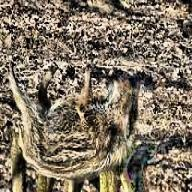boar: (7, 59, 142, 182)
